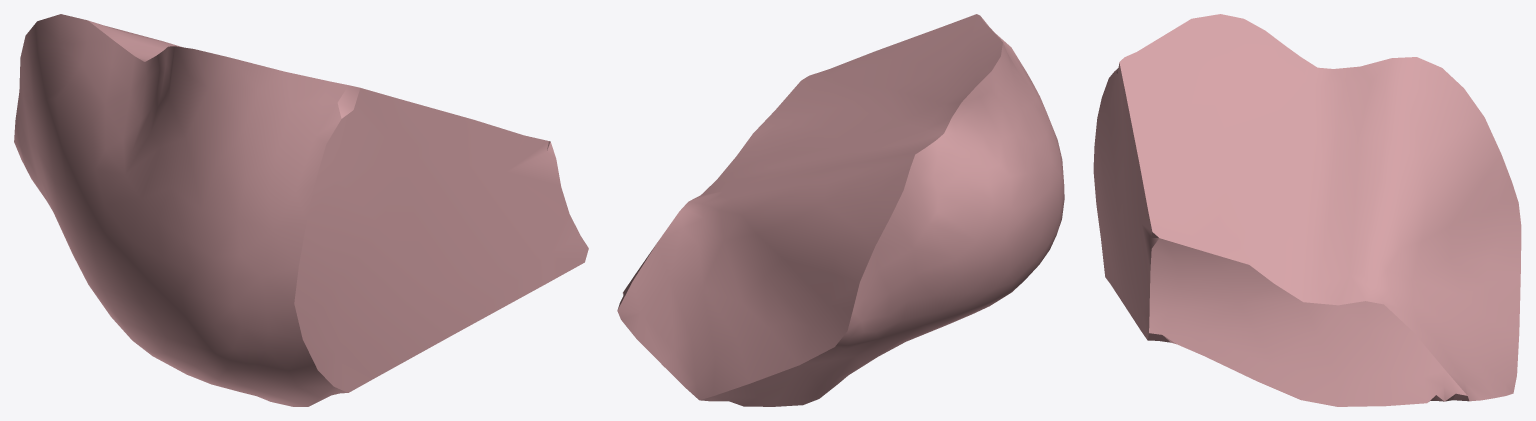
File: fma274754_mm3287m.glb
3 views of the same model, side by side, from view 1: azimuth 30°, elevation 25°; view 2: azimuth 150°, elevation 25°; view 3: azimuth 270°, elevation 25° (orthographic). The views are drawn at different scales.
Parts seen in each view (by area): view 1: FMA274754_MM3287M; view 2: FMA274754_MM3287M; view 3: FMA274754_MM3287M.
Part boxes in pixels (x1,y1,x2,y2): FMA274754_MM3287M: (14, 14, 588, 406); FMA274754_MM3287M: (617, 14, 1064, 406); FMA274754_MM3287M: (1093, 14, 1521, 406).
Bounding box in the file's own units: 0.00865 × 0.00716 × 0.00917.
